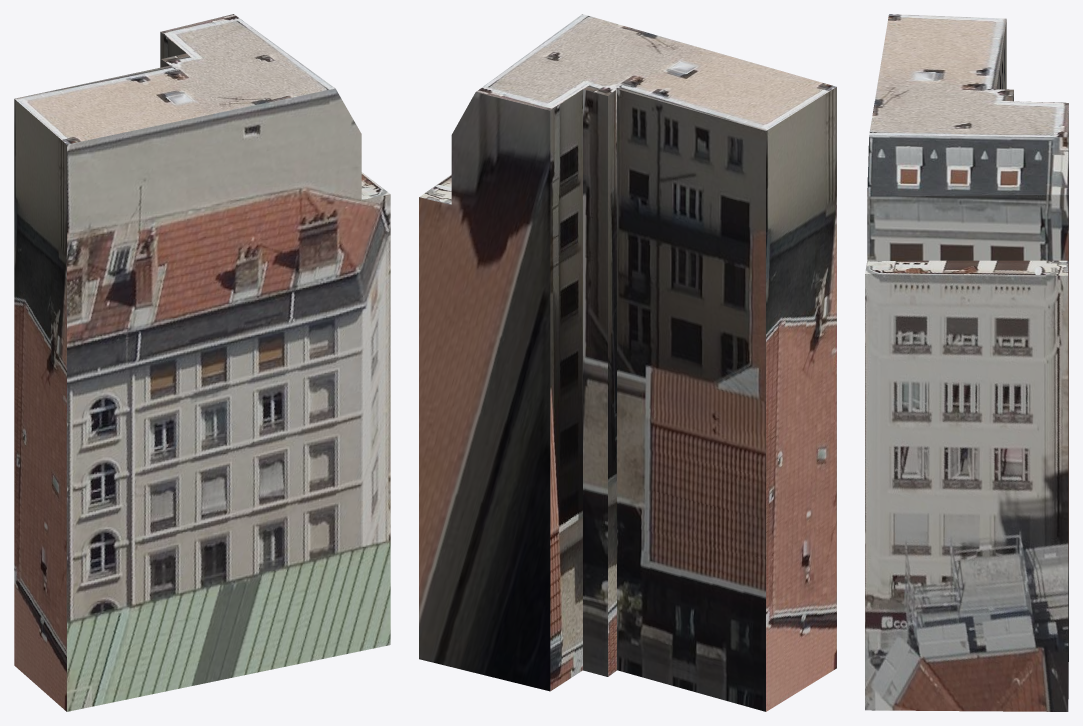
3 renders of one model, left to right at view 1: azimuth 30°, elevation 25°; view 2: azimuth 150°, elevation 25°; view 3: azimuth 270°, elevation 25°, orthographic. The views are drawn at different scales.
Visible parts, largest first — view 1: Z_UP; view 2: Z_UP; view 3: Z_UP.
Boxes of the visible parts, left/top/right/bottom form: Z_UP: left=14, top=14, right=390, bottom=711; Z_UP: left=419, top=14, right=836, bottom=711; Z_UP: left=865, top=14, right=1068, bottom=711.
Bounding box in the file's own units: 15.88 × 27.37 × 9.2.
2 materials, 1 textured.
